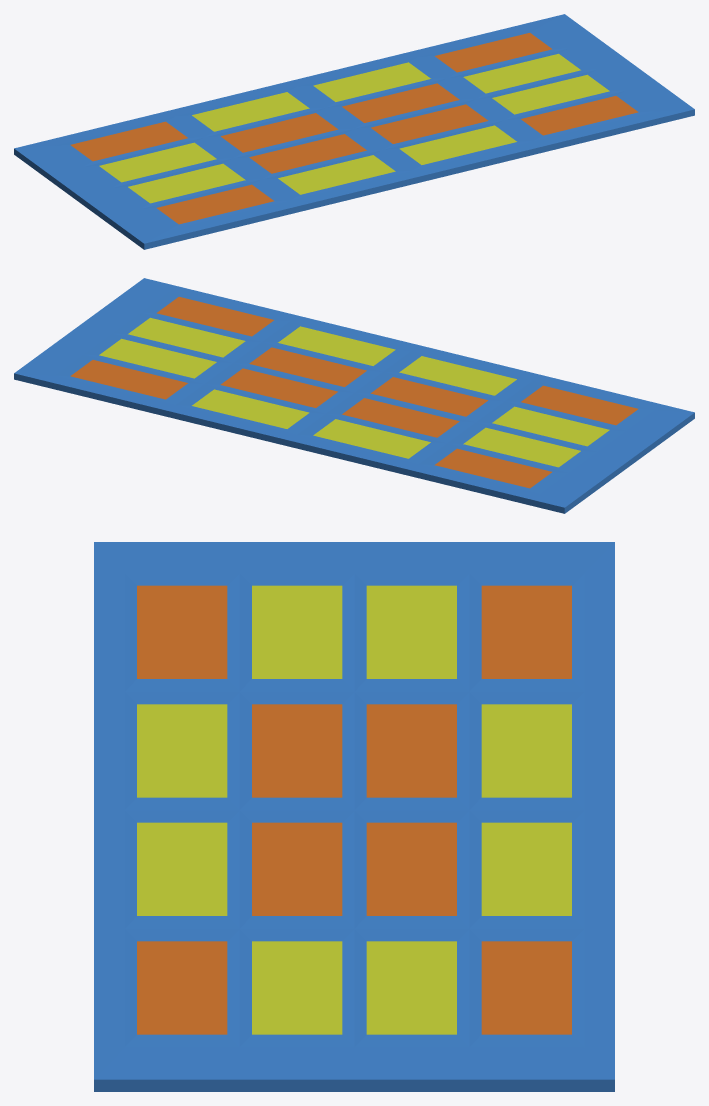
The model's file is Rug2_Material.fbx.
3 views of the same model, one above another, from view 1: azimuth 30°, elevation 25°; view 2: azimuth 150°, elevation 25°; view 3: azimuth 270°, elevation 25° (orthographic). The views are drawn at different scales.
Parts seen in each view (by area): view 1: Rug.001; view 2: Rug.001; view 3: Rug.001.
Part boxes in pixels (x1,y1,x2,y2): Rug.001: (14,14,694,249); Rug.001: (14,278,694,513); Rug.001: (94,542,614,1091).
Size of the model in its own units: 1.79 by 0.0201 by 0.7322.
